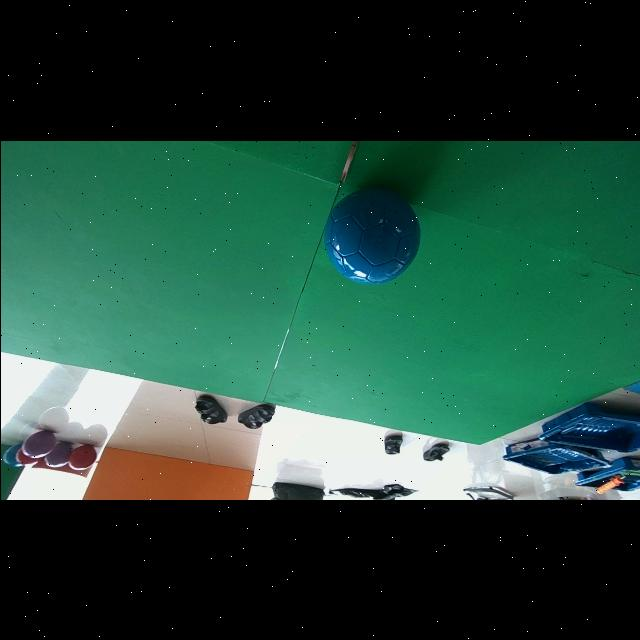B: (323, 187, 420, 285)
